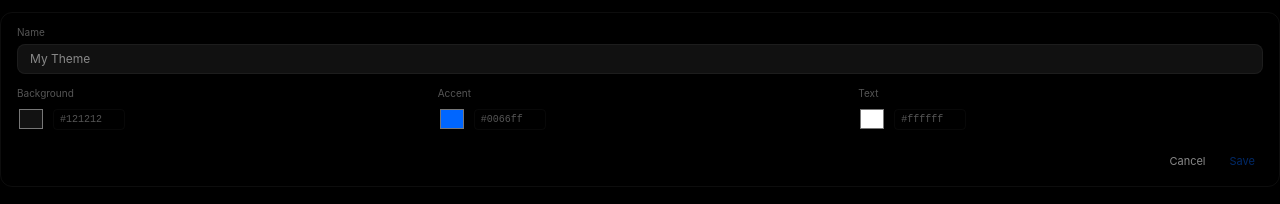
Test case: CustomThemeEditor › updates color when valid hex is typed
Replace the text in the field with test id "theme-accent-picker-hex" with "#1db954" at (510, 119), box [474,108,546,130]
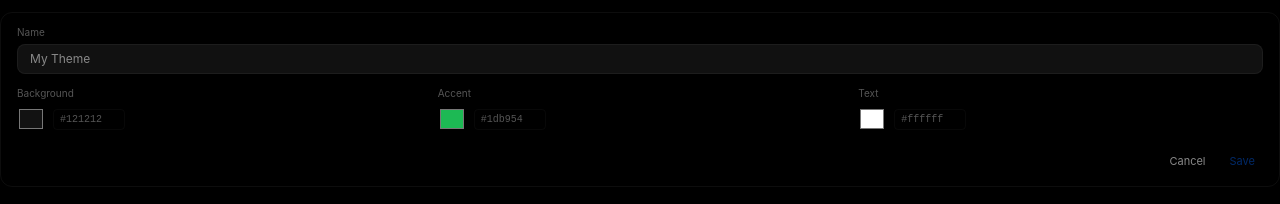
Expected: the colour field with test id "theme-accent-picker" holds "#1db954", [438,105,466,133]
